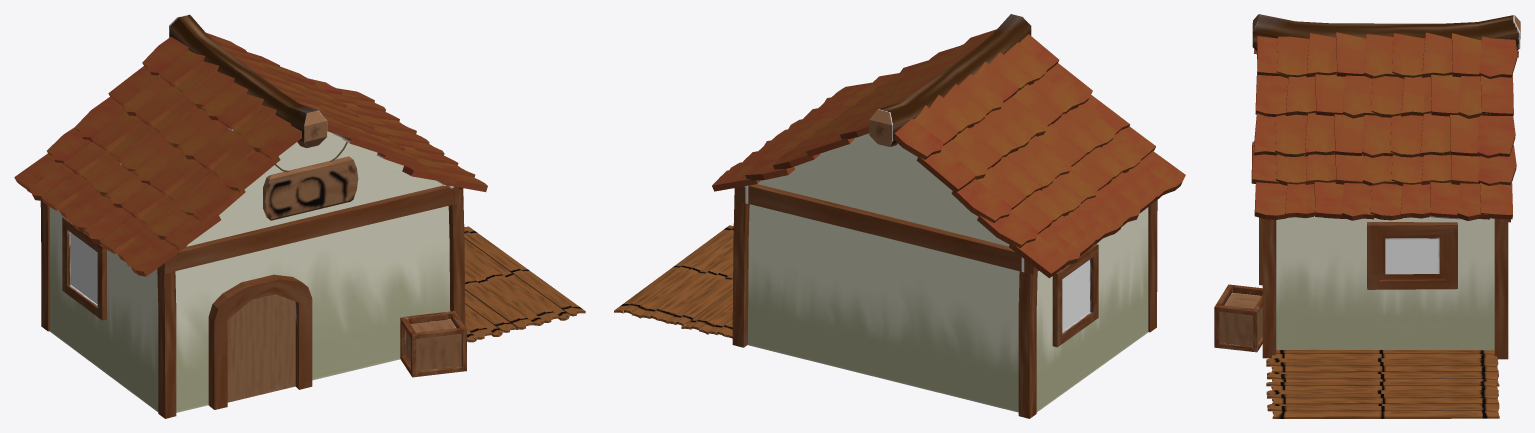
Rendered from House_Kambim2.fbx.
3 renders of one model, left to right at view 1: azimuth 30°, elevation 25°; view 2: azimuth 150°, elevation 25°; view 3: azimuth 270°, elevation 25°, orthographic. The views are drawn at different scales.
Parts seen in each view (by area): view 1: LOD_0; view 2: LOD_0; view 3: LOD_0.
Boxes of the visible parts, <box> form: LOD_0: <box>14,14,585,418</box>; LOD_0: <box>614,14,1185,418</box>; LOD_0: <box>1214,14,1520,418</box>.
Size of what is drawn, in the model's own units: 276 by 161 by 166.
